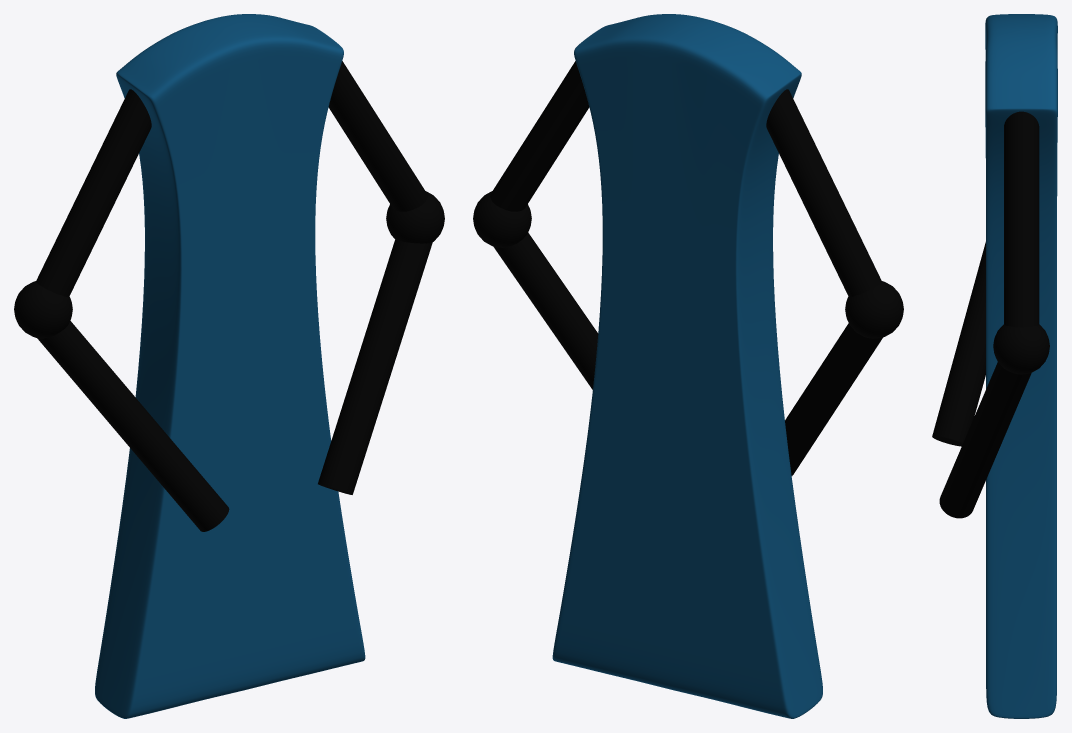
The picture shows the model from 3 angles, left to right: view 1: azimuth 30°, elevation 25°; view 2: azimuth 150°, elevation 25°; view 3: azimuth 270°, elevation 25°; orthographic projection. The views are drawn at different scales.
Visible parts, largest first — view 1: MaleBody, LeftForeArm, RightForeArm, RightUpperArm, LeftUpperArm, rightUpperArmSphere, LeftUpperArmSphere; view 2: MaleBody, RightUpperArm, LeftUpperArm, LeftForeArm, RightForeArm, rightUpperArmSphere, LeftUpperArmSphere; view 3: MaleBody, LeftUpperArm, LeftForeArm, RightForeArm, LeftUpperArmSphere.
Part boxes in pixels (box(x1,y1,x2,y2)): MaleBody: box(95, 14, 365, 718); LeftForeArm: box(318, 239, 432, 494); RightForeArm: box(37, 321, 229, 531); RightUpperArm: box(36, 89, 151, 296); LeftUpperArm: box(328, 61, 427, 211); rightUpperArmSphere: box(14, 281, 72, 338); LeftUpperArmSphere: box(386, 191, 444, 243); MaleBody: box(552, 14, 822, 718); RightUpperArm: box(766, 89, 881, 296); LeftUpperArm: box(490, 61, 589, 211); LeftForeArm: box(493, 232, 598, 389); RightForeArm: box(785, 323, 882, 475); rightUpperArmSphere: box(845, 281, 903, 338); LeftUpperArmSphere: box(473, 191, 531, 247); MaleBody: box(985, 14, 1057, 718); LeftUpperArm: box(1004, 111, 1039, 327); LeftForeArm: box(939, 362, 1031, 518); RightForeArm: box(932, 242, 985, 446); LeftUpperArmSphere: box(993, 324, 1049, 374).
Size of the model in its own units: 133 by 196 by 35.4.
